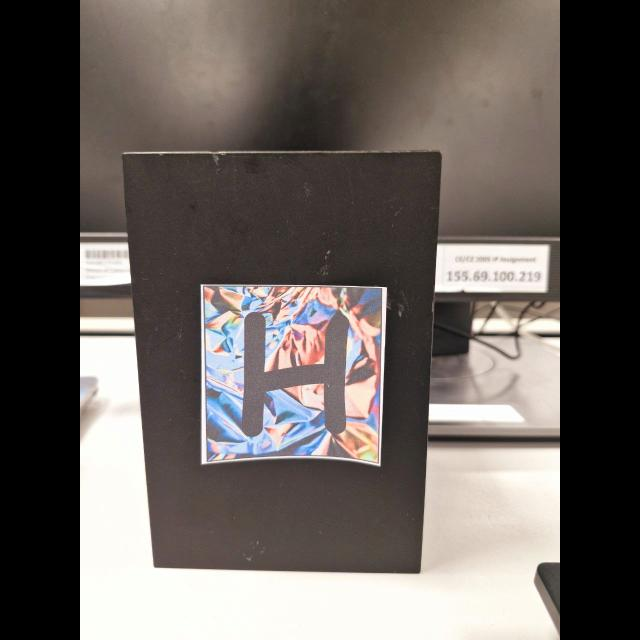H: (242, 313, 347, 434)
